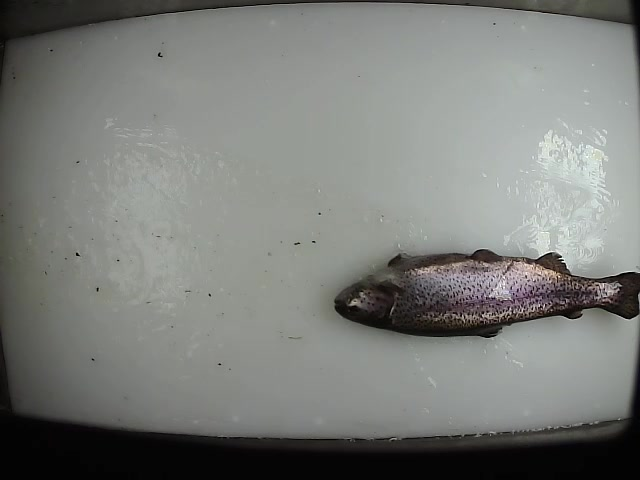fish: (332, 247, 640, 339)
